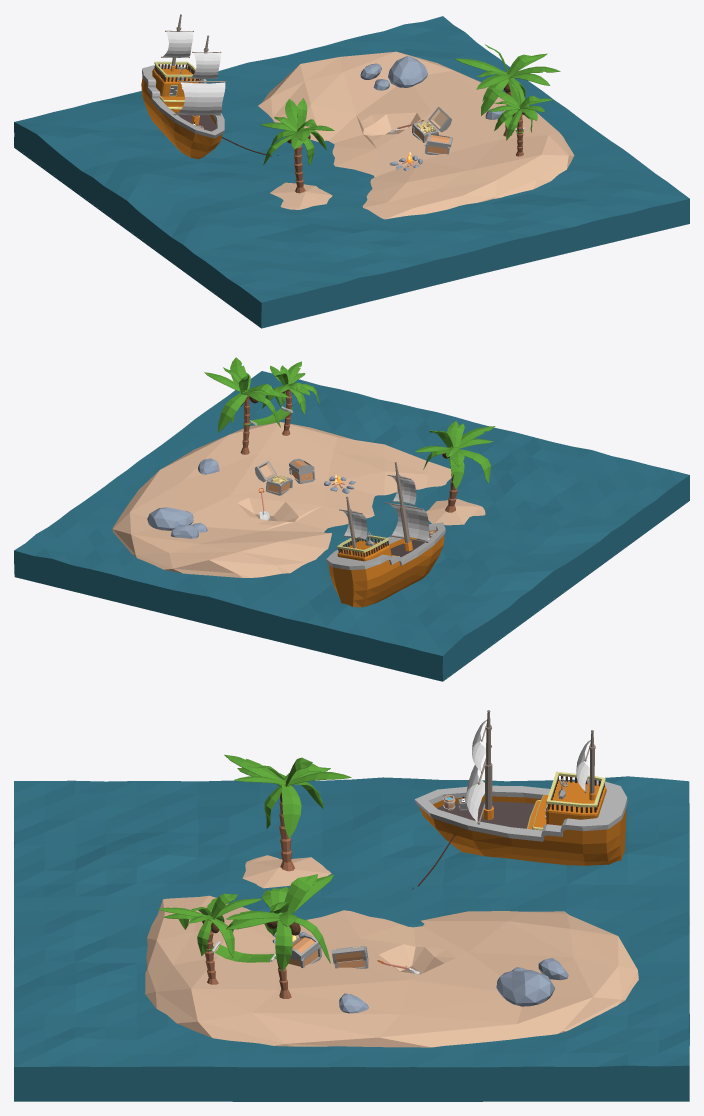
Rendered from ada.fbx.
The picture shows the model from 3 angles, top to bottom: view 1: azimuth 30°, elevation 25°; view 2: azimuth 150°, elevation 25°; view 3: azimuth 270°, elevation 25°; orthographic projection. The views are drawn at different scales.
Visible parts, largest first — view 1: deniz, ada, Cylinder.020, Cylinder.039, Cylinder.013, Icosphere.010, Cube.005, Cube.015; view 2: deniz, ada, Cylinder.020, Cylinder.039, Cylinder.013, Icosphere.010, Cube.005, Cube.015; view 3: deniz, ada, Cylinder.020, Cylinder.039, Cylinder.013, Icosphere.010, Cube.015.
Boxes of the visible parts, bbox=[...] form: deniz: bbox=[14, 16, 689, 328]; ada: bbox=[258, 51, 574, 219]; Cylinder.020: bbox=[141, 14, 278, 159]; Cylinder.039: bbox=[454, 44, 560, 156]; Cylinder.013: bbox=[260, 98, 334, 193]; Icosphere.010: bbox=[360, 56, 504, 119]; Cube.005: bbox=[412, 107, 451, 142]; Cube.015: bbox=[425, 133, 452, 154]; deniz: bbox=[14, 371, 689, 681]; ada: bbox=[112, 422, 485, 577]; Cylinder.020: bbox=[326, 462, 445, 607]; Cylinder.039: bbox=[204, 357, 319, 454]; Cylinder.013: bbox=[415, 421, 495, 512]; Icosphere.010: bbox=[147, 458, 219, 538]; Cube.005: bbox=[254, 460, 292, 495]; Cube.015: bbox=[289, 458, 315, 483]; deniz: bbox=[14, 776, 689, 1101]; ada: bbox=[145, 855, 638, 1047]; Cylinder.020: bbox=[412, 710, 627, 889]; Cylinder.039: bbox=[157, 874, 333, 998]; Cylinder.013: bbox=[224, 754, 351, 871]; Icosphere.010: bbox=[339, 958, 568, 1013]; Cube.015: bbox=[288, 934, 321, 967].
Size of the model in its own units: 2164 by 800 by 2162.
